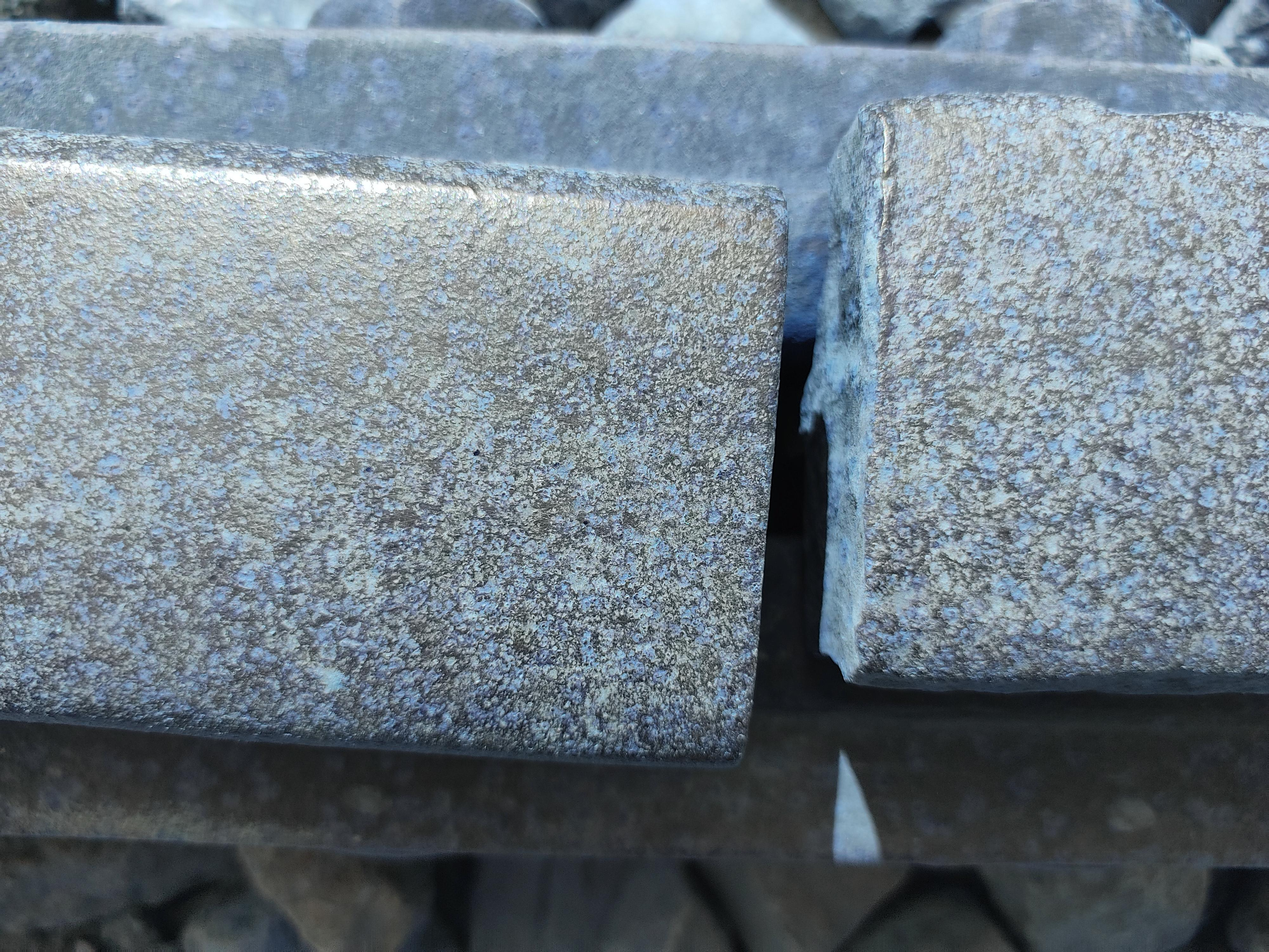tracks_fault: (703, 80, 994, 798)
